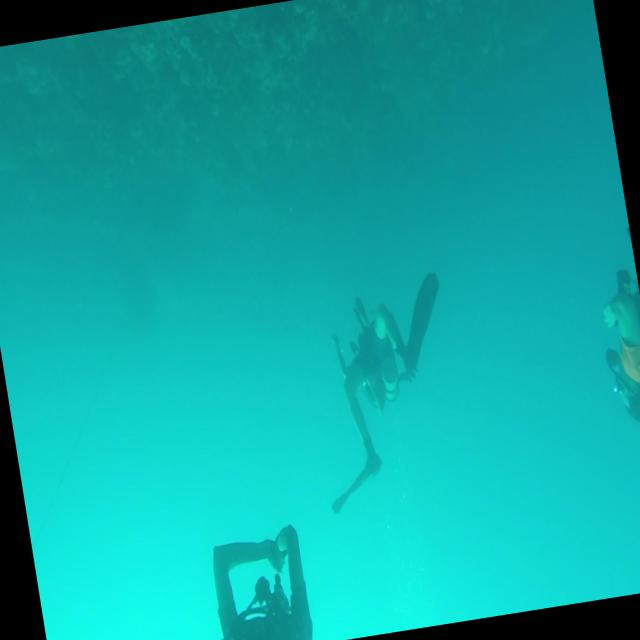human: (297, 270, 473, 516), (191, 523, 317, 640), (593, 267, 640, 434)
